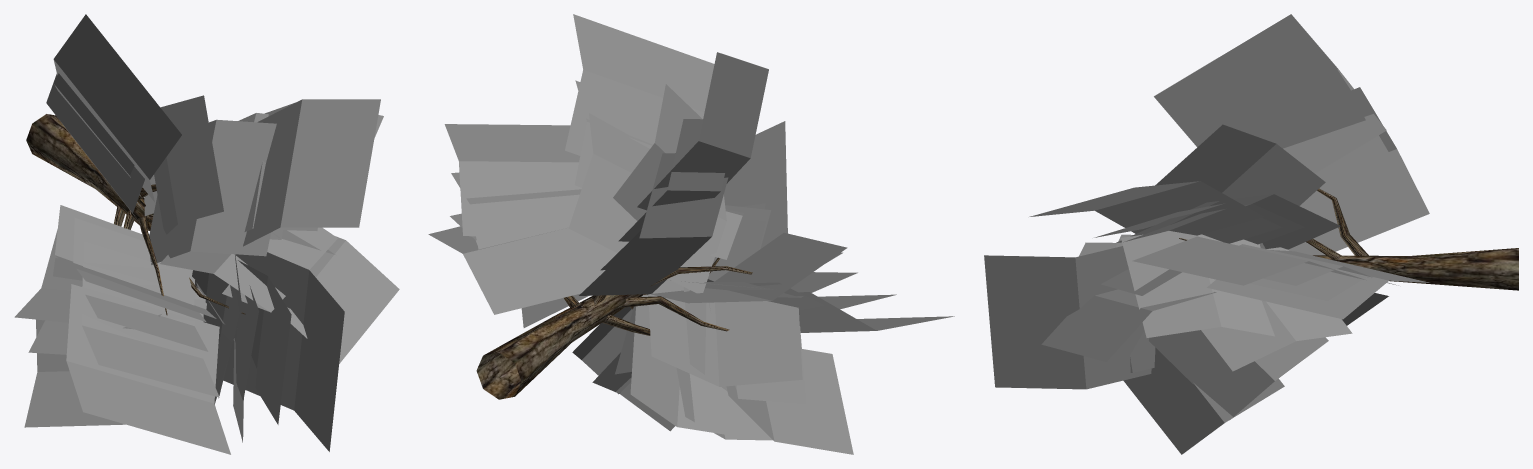
The model's file is acacia_bb_2_1.obj.
3 renders of one model, left to right at view 1: azimuth 30°, elevation 25°; view 2: azimuth 150°, elevation 25°; view 3: azimuth 270°, elevation 25°, orthographic. The views are drawn at different scales.
Visible parts, largest first — view 1: plant_pmat3, plant_pmat1, plant_pmat2; view 2: plant_pmat3, plant_pmat1, plant_pmat2; view 3: plant_pmat3, plant_pmat1, plant_pmat2.
Part boxes in pixels (x1,y1,x2,y2): plant_pmat3: [14, 14, 399, 454]; plant_pmat1: [26, 114, 153, 230]; plant_pmat2: [114, 184, 245, 315]; plant_pmat3: [428, 14, 954, 454]; plant_pmat1: [476, 294, 642, 399]; plant_pmat2: [564, 257, 752, 335]; plant_pmat3: [984, 14, 1429, 454]; plant_pmat1: [1313, 248, 1518, 290]; plant_pmat2: [1179, 188, 1368, 260].
Bounding box in the file's own units: 4.01 × 4.12 × 5.06.
